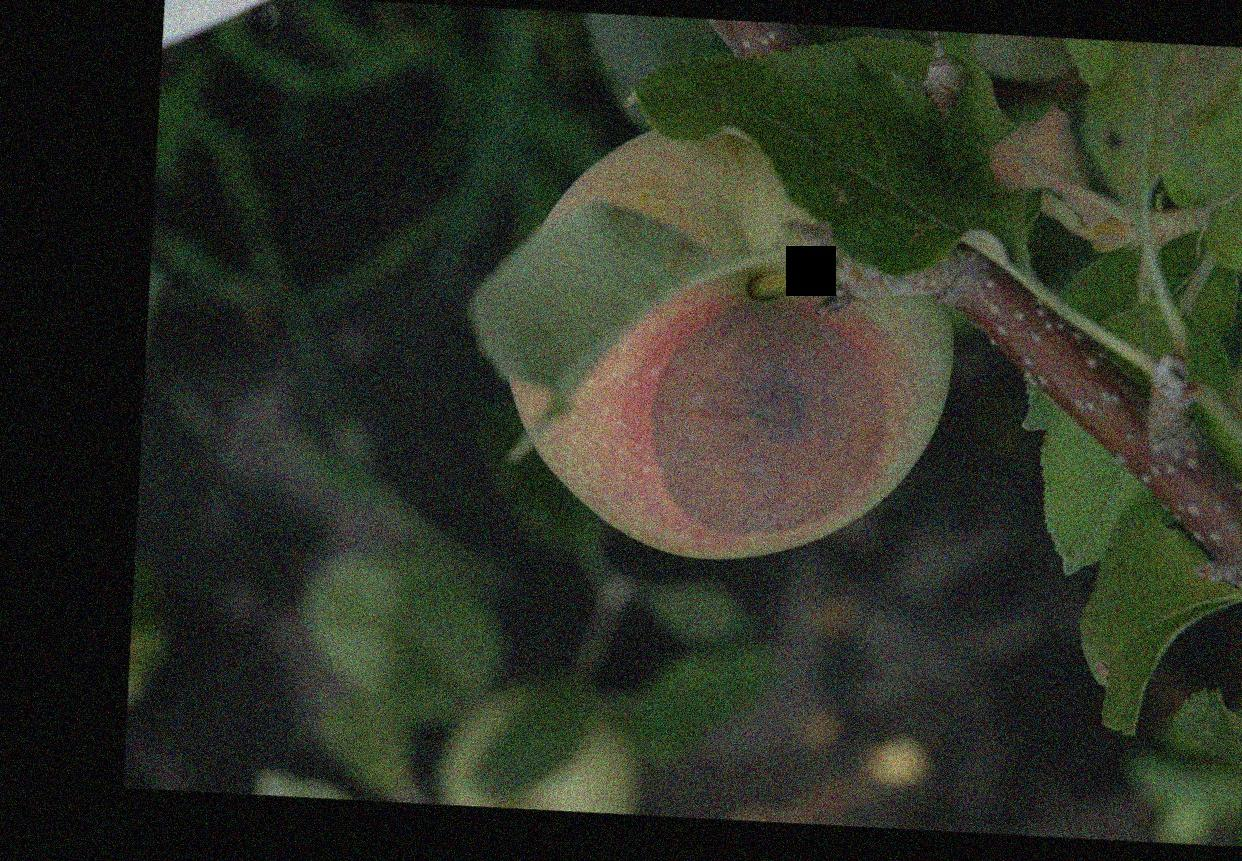rotten apple: (491, 115, 961, 573)
